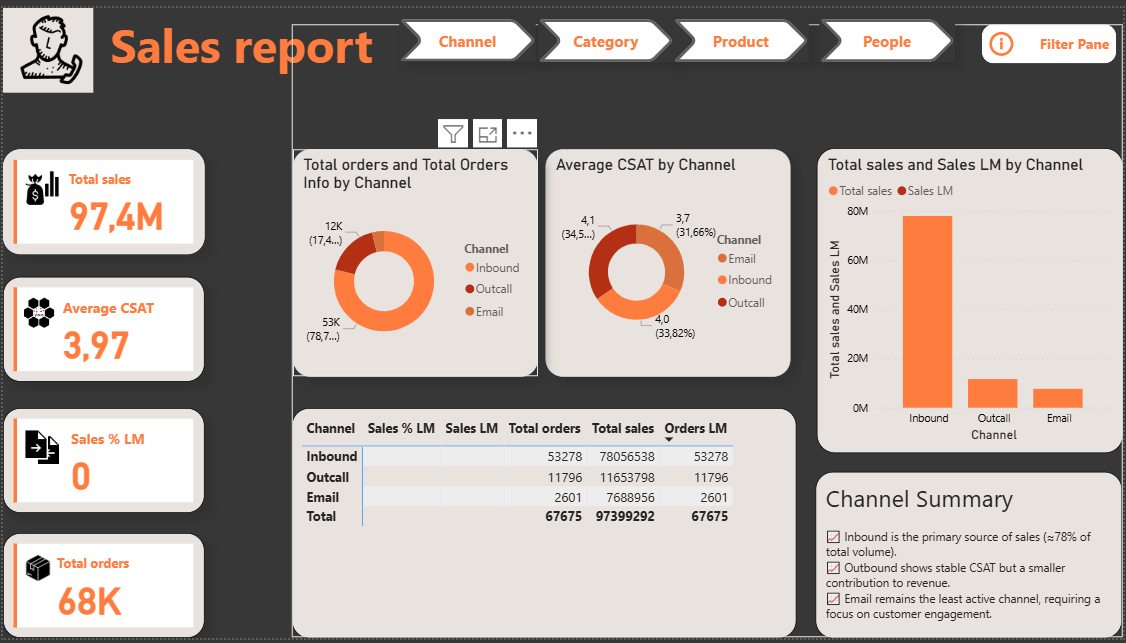

What the dashboard file says about the page in this screenshot:
{"tool":"powerbi","page":{"name":"Page 1","canvas":[1280,720],"ordinal":0},"visuals":[{"type":"cardVisual","fields":{"Data":["Measures Table.Total sales"]},"box":[0,161.4,230,120],"z":0},{"type":"donutChart","fields":{"Y":["Measures Table.Average CSAT"],"Series":["Channel.Channel"]},"box":[619.8,161.4,280,260],"z":0,"group":"g1"},{"type":"donutChart","fields":{"Category":["Channel.Channel"],"Y":["Measures Table.Total orders"]},"box":[331.2,161.4,280,260],"z":1000,"group":"g1"},{"type":"cardVisual","fields":{"Data":["Measures Table.Total orders"]},"box":[0,600,230,120],"z":1000},{"type":"lineStackedColumnComboChart","fields":{"Category":["Channel.Channel"],"Y":["Measures Table.Total sales","Measures Table.Sales LM"]},"box":[929.6,160,350,348.6],"z":2000,"group":"g1"},{"type":"cardVisual","fields":{"Data":["Measures Table.Average CSAT"]},"box":[0,307.1,230,120],"z":2000},{"type":"pivotTable","fields":{"Values":["Measures Table.Sales % LM","Measures Table.Sales LM","Measures Table.Total orders","Measures Table.Total sales","Measures Table.Orders LM"],"Rows":["Channel.Channel"]},"box":[329.6,456.6,577.1,262.9],"z":3000,"group":"g1"},{"type":"cardVisual","fields":{"Data":["Measures Table.Sales % LM"]},"box":[0,457.1,230,120],"z":3000},{"type":"image","box":[0,0,103.3,96.7],"z":4000},{"type":"textbox","box":[928.2,529.4,350,190],"z":4000,"group":"g1"},{"type":"textbox","box":[103.3,0,345,83.3],"z":5000},{"type":"actionButton","box":[1118.3,18.3,153.7,44.8],"z":5000,"group":"g1"},{"type":"actionButton","box":[561.5,118.6,50.6,43.6],"z":5000},{"type":"group","id":"g1","title":"Channel","box":[329.6,18.3,950,701.2],"z":7000},{"type":"actionButton","title":"Channel","box":[452.8,12.8,156,48],"z":15000},{"type":"actionButton","title":"Channel","box":[611,12.8,155,48.8],"z":16000},{"type":"actionButton","title":"Channel","box":[766,12.8,155,48.8],"z":17000},{"type":"actionButton","title":"Channel","box":[932.3,12.8,155,48.8],"z":18000}]}

Visuals, with their boxes in screenshot pixels (x1, y1, x2, y2), scaled from the page's 1280x720 canvas onto the 1126x643 screenshot:
cardVisual - Measures Table.Total sales: 0,144,202,251
donutChart - Measures Table.Average CSAT x Channel.Channel: 545,144,792,376
donutChart - Channel.Channel x Measures Table.Total orders: 291,144,538,376
cardVisual - Measures Table.Total orders: 0,536,202,642
lineStackedColumnComboChart - Channel.Channel x Measures Table.Total sales: 818,143,1125,454
cardVisual - Measures Table.Average CSAT: 0,274,202,381
pivotTable - Measures Table.Sales % LM x Measures Table.Sales LM: 290,408,798,642
cardVisual - Measures Table.Sales % LM: 0,408,202,515
image: 0,0,91,86
textbox: 817,473,1124,642
textbox: 91,0,394,74
actionButton: 984,16,1119,56
actionButton: 494,106,538,145
"Channel" group: 290,16,1125,642
"Channel" actionButton: 398,11,536,54
"Channel" actionButton: 537,11,674,55
"Channel" actionButton: 674,11,810,55
"Channel" actionButton: 820,11,956,55
